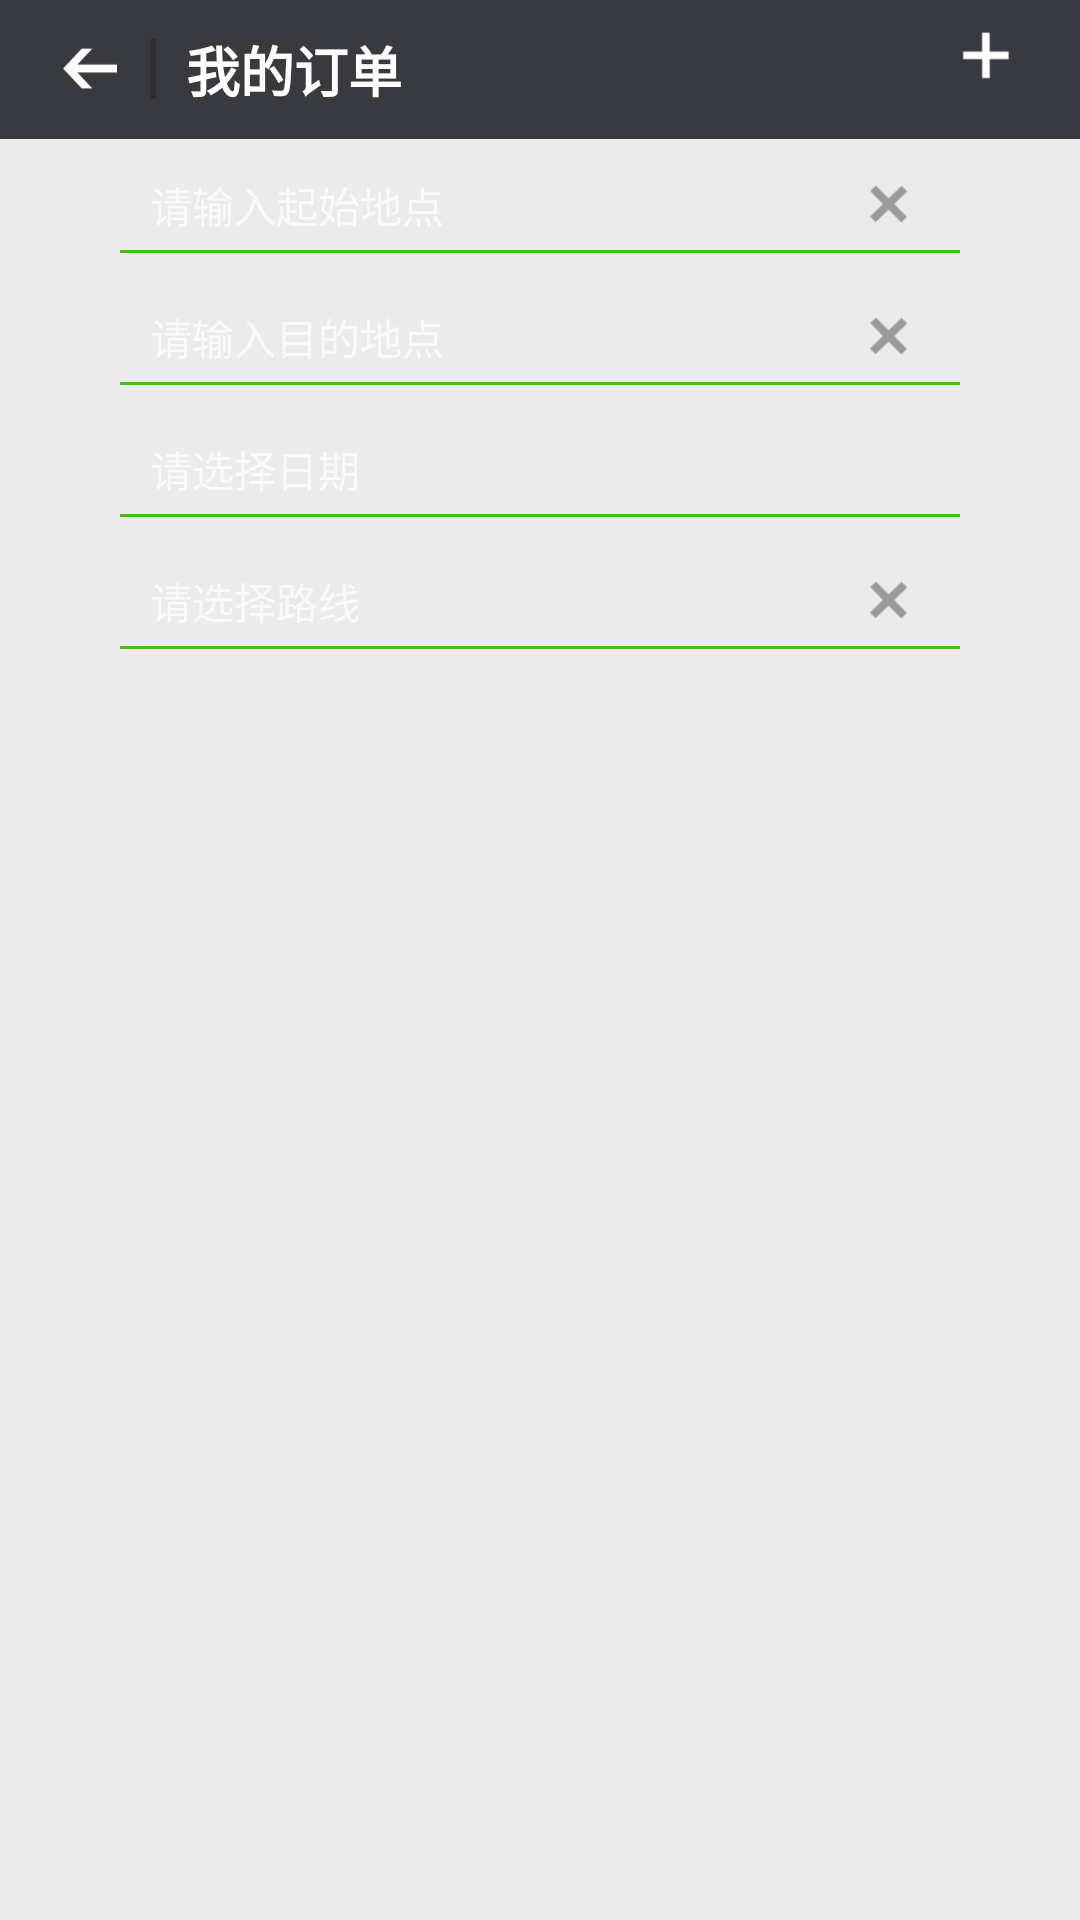

Icon click points for this 1080 x 1920 phone screenshot, format point (x, y):
add: point (986, 55)
back: point (90, 68)
clear: point (888, 204), point (888, 336), point (888, 600)
